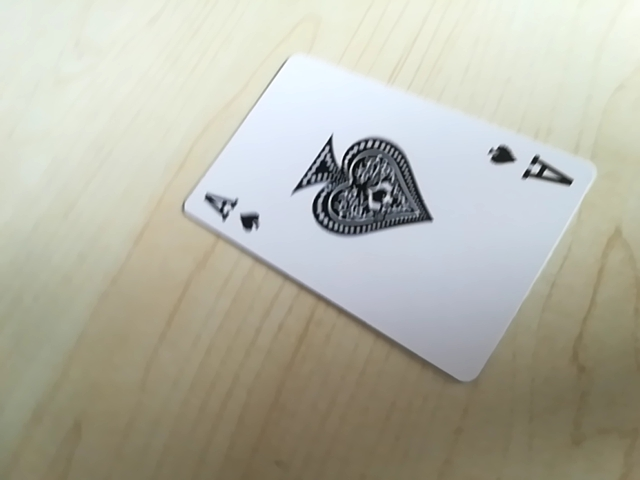ht a: (477, 137, 577, 194), (191, 188, 269, 240)
